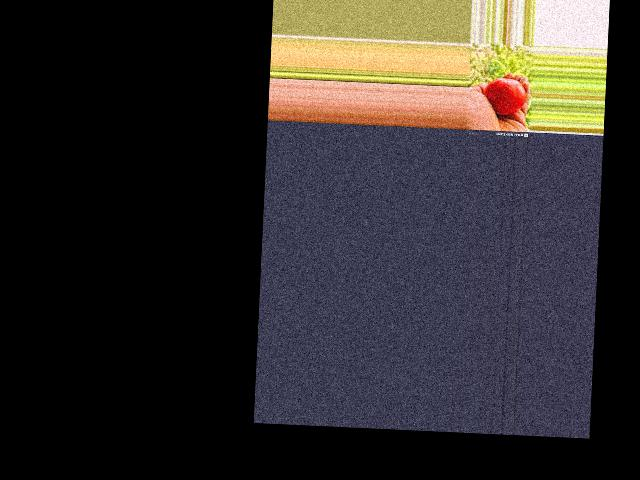tomato: (483, 77, 525, 115)
